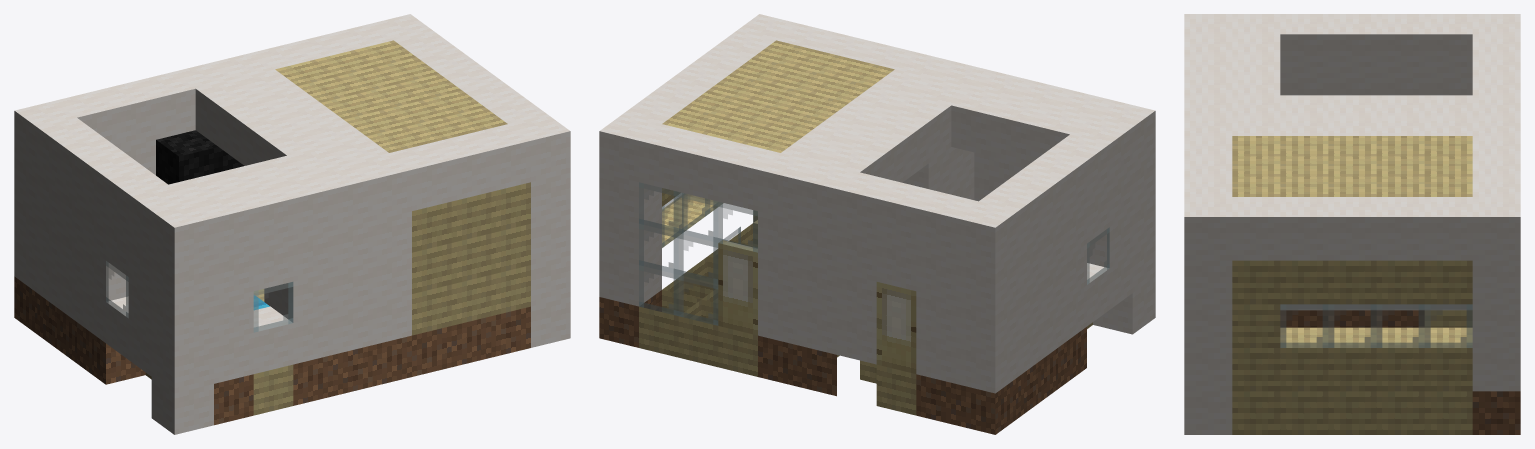
File: Maquete_Pedro Cainelli Facciolli.glb
3 renders of one model, left to right at view 1: azimuth 30°, elevation 25°; view 2: azimuth 150°, elevation 25°; view 3: azimuth 270°, elevation 25°, orthographic. The views are drawn at different scales.
Parts seen in each view (by area): view 1: node_3, node_6, node_4; view 2: node_3, node_6, node_1, node_2, node_5; view 3: node_3, node_6, node_1.
Part boxes in pixels (x1,y1,x2,y2): node_3: (173,14,570,396); node_6: (14,72,332,434); node_4: (106,261,293,332); node_3: (599,14,996,396); node_6: (837,72,1155,434); node_1: (639,182,757,325); node_2: (718,240,757,335); node_5: (876,282,916,373); node_3: (1184,95,1520,434); node_6: (1184,14,1520,95); node_1: (1280,304,1472,347).
Bounding box in the file's own units: 10 × 5 × 7.
3 materials, 3 textured.
